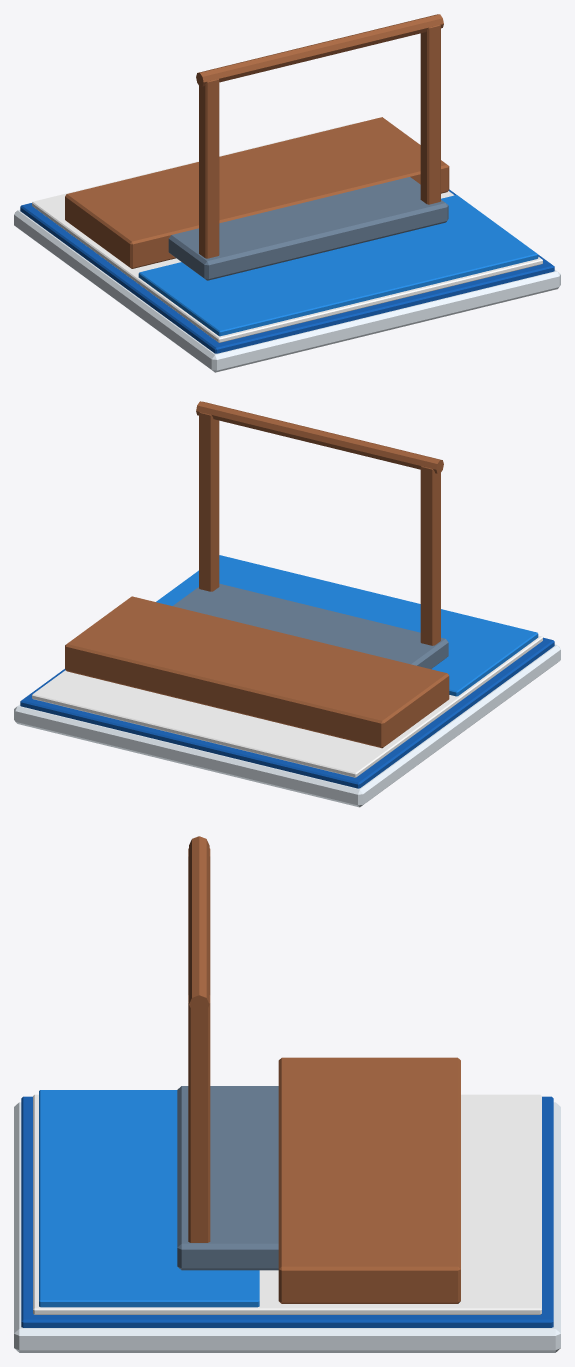
File: Harbor_Stage2_v002.fbx
3 views of the same model, one above another, from view 1: azimuth 30°, elevation 25°; view 2: azimuth 150°, elevation 25°; view 3: azimuth 270°, elevation 25° (orthographic). The views are drawn at different scales.
Visible parts, largest first — view 1: FixedShell; view 2: FixedShell; view 3: FixedShell.
Part boxes in pixels (x1,y1,x2,y2): FixedShell: [14, 14, 560, 372]; FixedShell: [14, 401, 560, 807]; FixedShell: [14, 836, 560, 1352].
Size of the model in its own units: 186 by 122 by 186.
